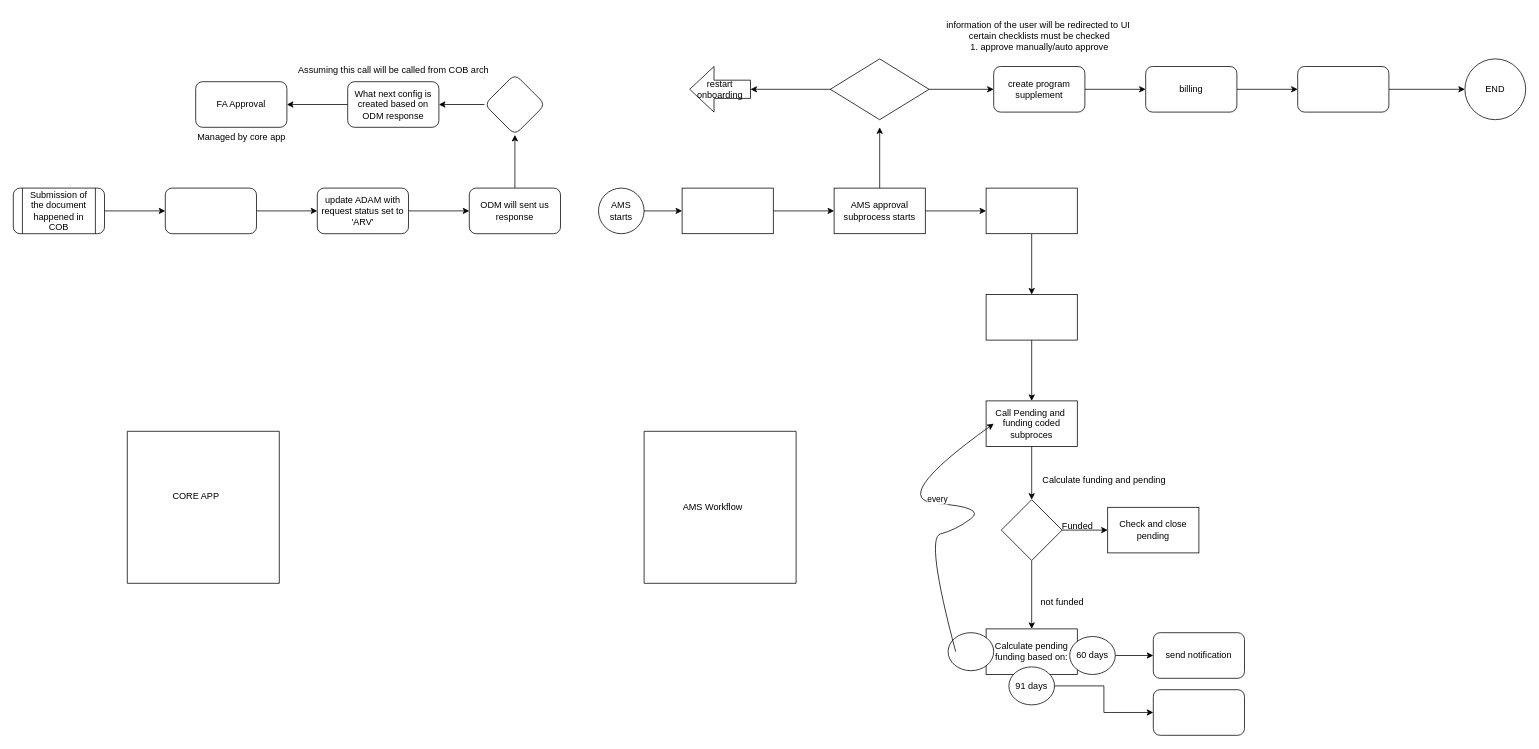
This 1539x749 diagram has some shape labels left out. Each missing label, with the box of its shape:
2hrs: (947, 632, 994, 671)
AMS Main sub process starts: (681, 187, 773, 234)
document uploaded 1. doc_id 2. acc_num: (165, 187, 256, 234)
ODM: (484, 73, 545, 135)
payment: (1297, 66, 1389, 112)
Pending Funding: (985, 187, 1077, 234)
pending till 91 days: (830, 58, 929, 120)
Remove AMS feature: (1153, 689, 1244, 735)
WF moves to close pending funding: (985, 294, 1077, 340)
